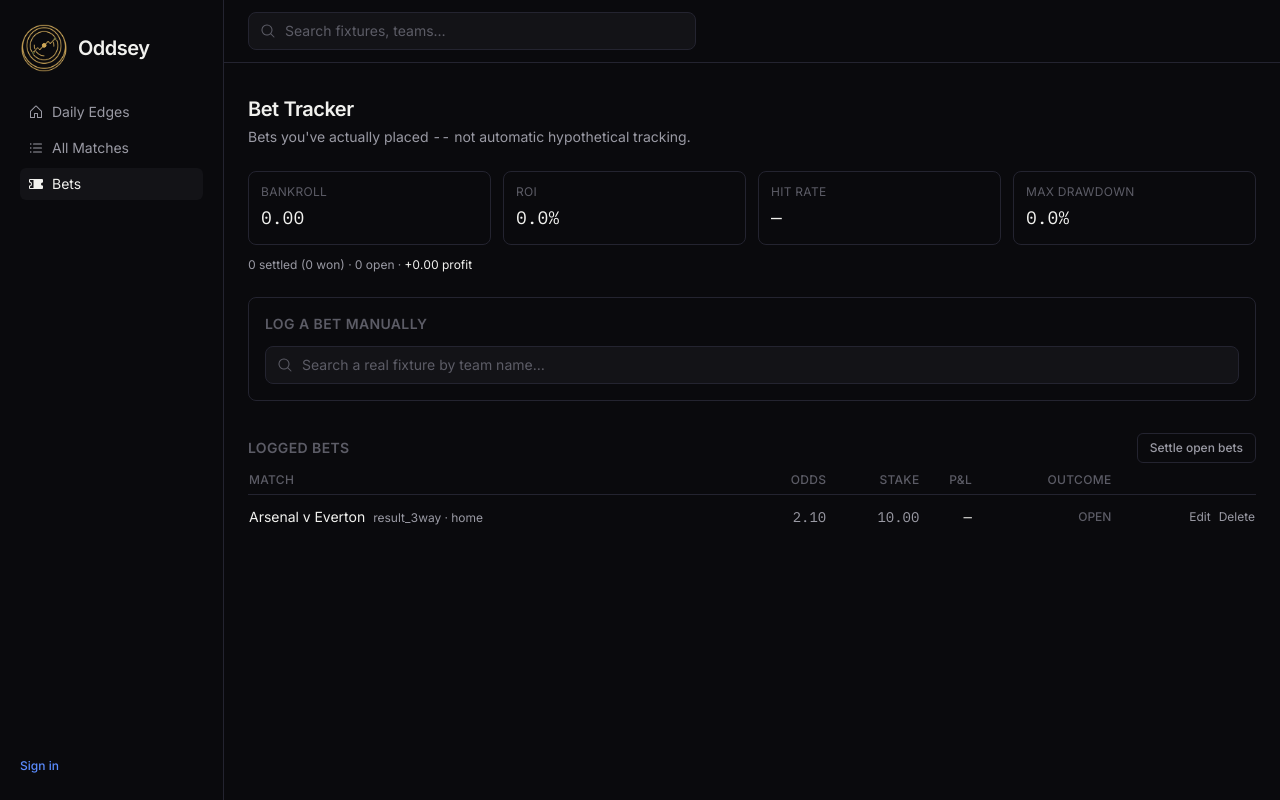
it: BetTrackerPage lets a user delete their own logged bet (W215) › prompts re-auth (not an inline error) when delete fails with a 401
Expected: the text "Arsenal v Everton" is shown, [249,508,483,525]
What coordinates should you click on to do the following:
click the button "Delete"
I would click on:
 (1237, 517)
Its box is [1219,509,1255,525].
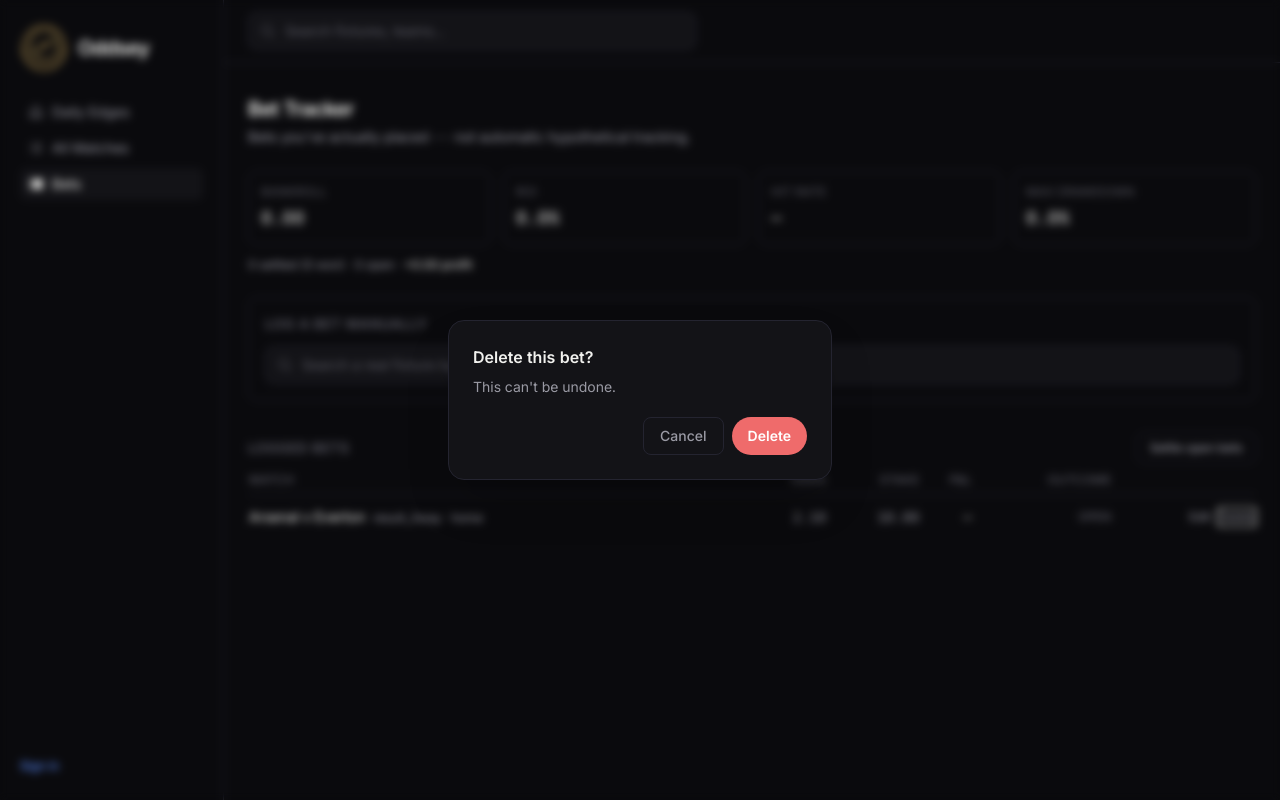
What coordinates should you click on to do the following:
click the button with aria-label "confirm delete"
I would click on:
 (769, 436)
Its box is [732,417,807,455].
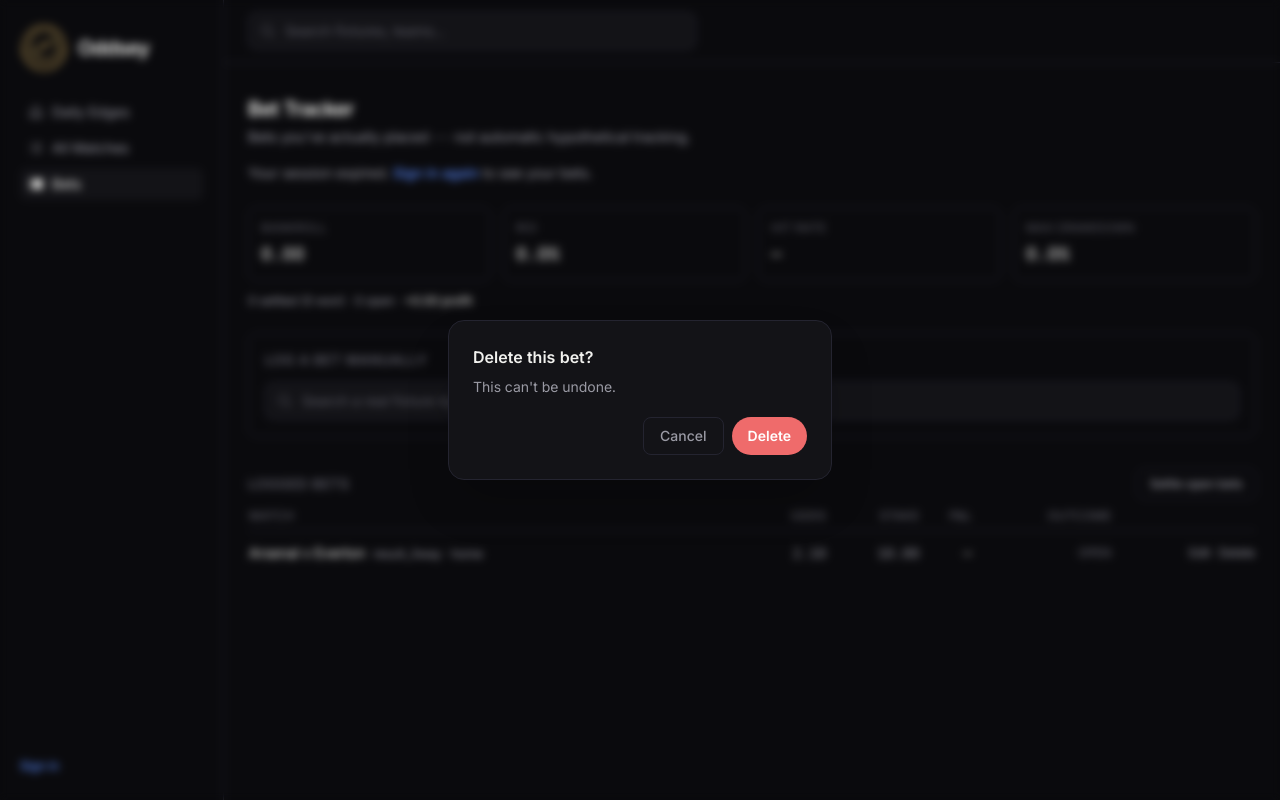
Now the text "Your session expired. Sign in again to see your bets." is shown, box [248,164,592,181]
